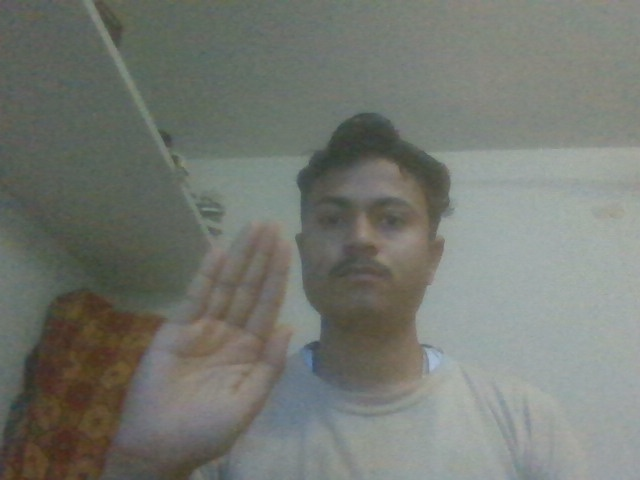Hello: (97, 214, 306, 475)
